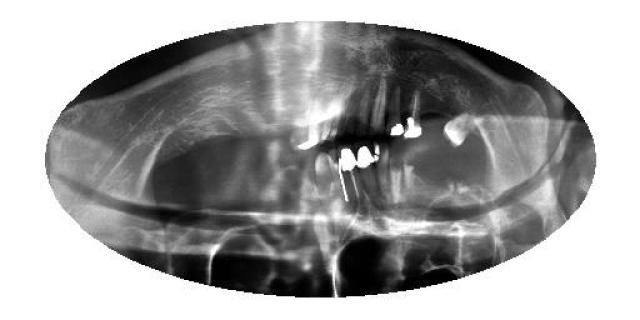Cavity: (389, 154, 405, 204), (404, 158, 415, 188)
Fillings: (358, 146, 382, 204), (384, 81, 406, 139), (374, 140, 390, 196)
Implant: (338, 146, 362, 204), (403, 88, 422, 140)
